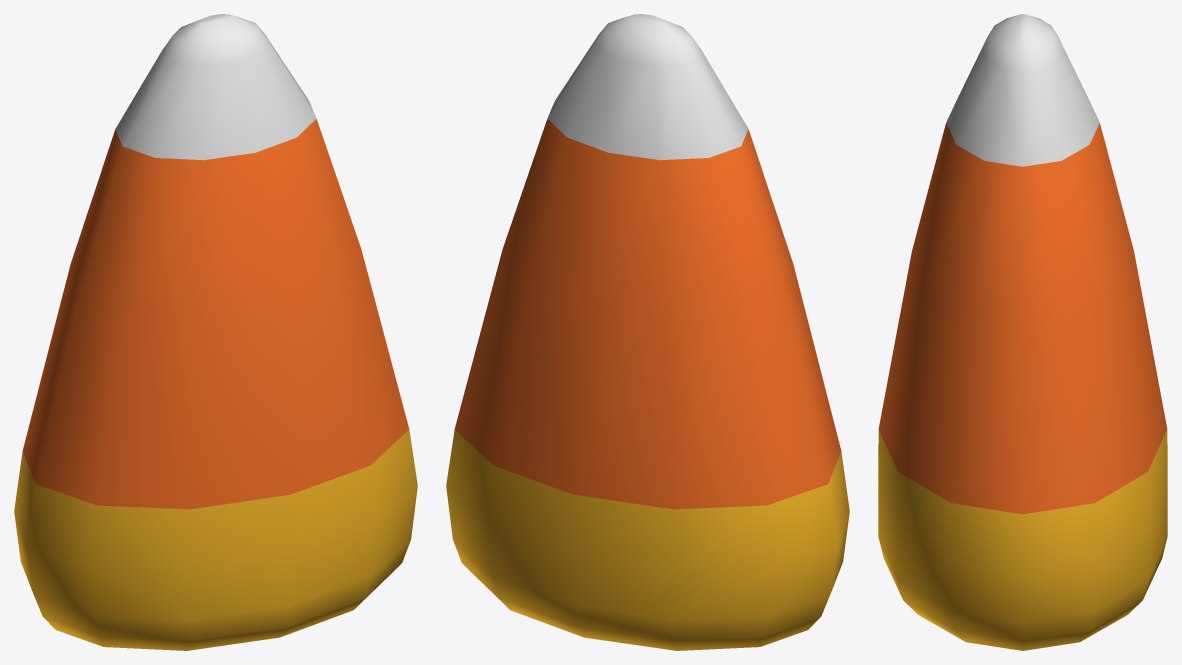
Rendered from candyCorn.gltf.glb.
3 renders of one model, left to right at view 1: azimuth 30°, elevation 25°; view 2: azimuth 150°, elevation 25°; view 3: azimuth 270°, elevation 25°, orthographic. The views are drawn at different scales.
Visible parts, largest first — view 1: candyCorn; view 2: candyCorn; view 3: candyCorn.
Part boxes in pixels (x1=…): candyCorn: x1=14, y1=14, x2=417, y2=650; candyCorn: x1=446, y1=14, x2=849, y2=650; candyCorn: x1=878, y1=14, x2=1167, y2=650.
Size of the model in its own units: 0.5999 by 0.8726 by 0.4091.
